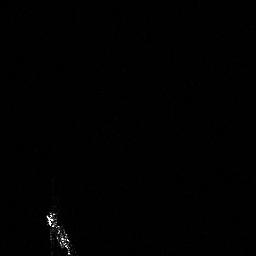ship: (46, 211, 71, 253)
